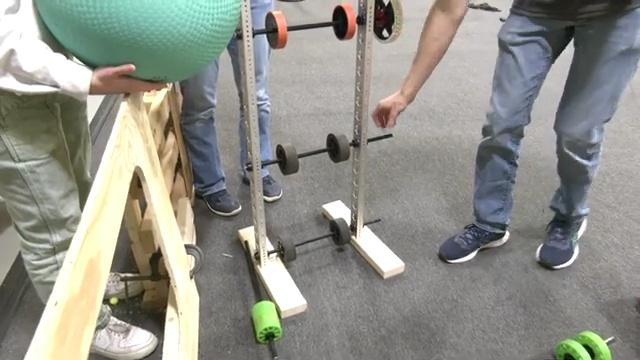ALGAE: (32, 0, 242, 84)
